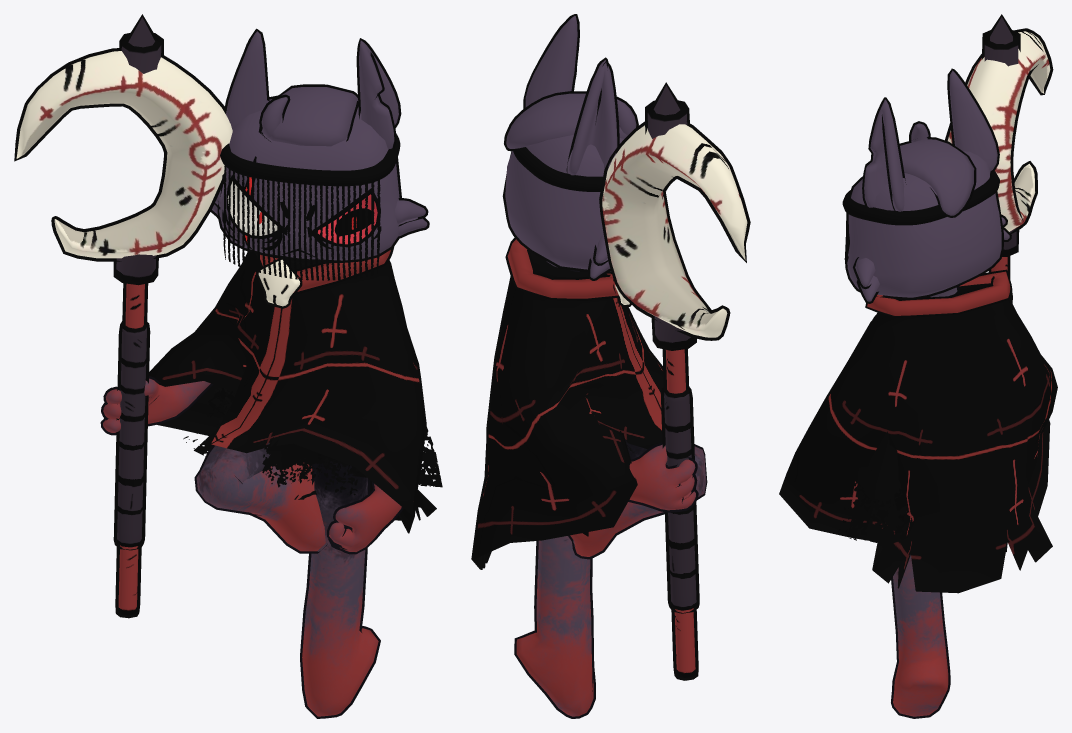
Rendered from cult_of_the_lamb__aym.glb.
The picture shows the model from 3 angles, left to right: view 1: azimuth 30°, elevation 25°; view 2: azimuth 150°, elevation 25°; view 3: azimuth 270°, elevation 25°; orthographic projection. The views are drawn at different scales.
Parts seen in each view (by area): view 1: Object_5, Object_4, Object_2, Object_6, Object_3, Object_7; view 2: Object_5, Object_2, Object_4, Object_6, Object_3; view 3: Object_5, Object_4, Object_2, Object_6, Object_7, Object_3.
Part boxes in pixels (left/top/right/bottom): Object_5: left=149, top=247, right=436, bottom=533; Object_4: left=210, top=28, right=429, bottom=280; Object_2: left=16, top=17, right=232, bottom=615; Object_6: left=100, top=376, right=403, bottom=718; Object_3: left=14, top=14, right=226, bottom=618; Object_7: left=183, top=387, right=442, bottom=506; Object_5: left=471, top=237, right=663, bottom=569; Object_2: left=602, top=85, right=747, bottom=677; Object_4: left=502, top=14, right=638, bottom=280; Object_6: left=514, top=261, right=707, bottom=718; Object_3: left=599, top=82, right=750, bottom=680; Object_5: left=779, top=269, right=1057, bottom=593; Object_4: left=842, top=68, right=1011, bottom=303; Object_2: left=947, top=17, right=1050, bottom=271; Object_6: left=891, top=286, right=959, bottom=718; Object_7: left=837, top=431, right=910, bottom=544; Object_3: left=945, top=14, right=1053, bottom=551.
Bounding box in the file's own units: 1.07 × 2.19 × 0.8592.
6 materials, 5 textured.
